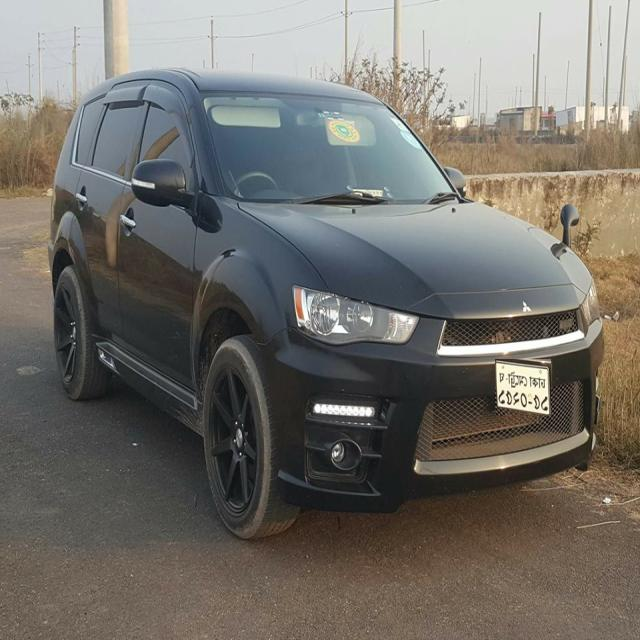numberplate: (496, 359, 552, 416)
